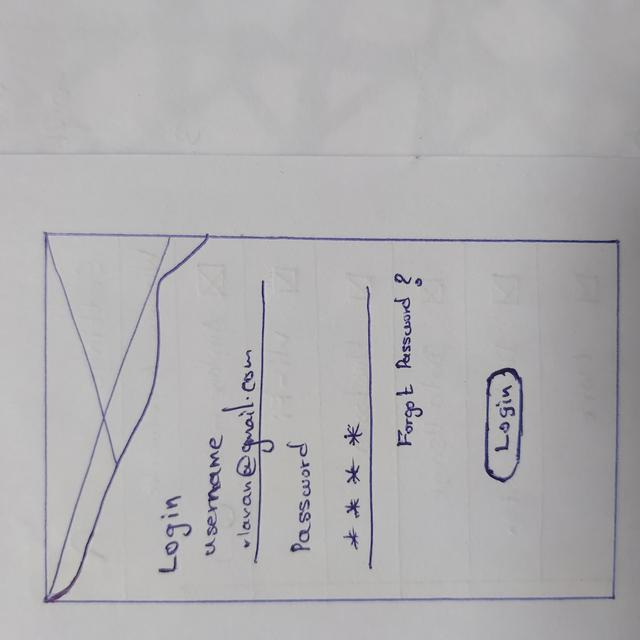Button: (481, 366, 521, 483)
EditText: (285, 283, 375, 575), (201, 283, 269, 569)
Image: (40, 232, 156, 610)
MainLayout: (41, 231, 616, 600)
TextView: (390, 270, 417, 450), (205, 438, 220, 560), (294, 443, 310, 557), (162, 496, 180, 574)
